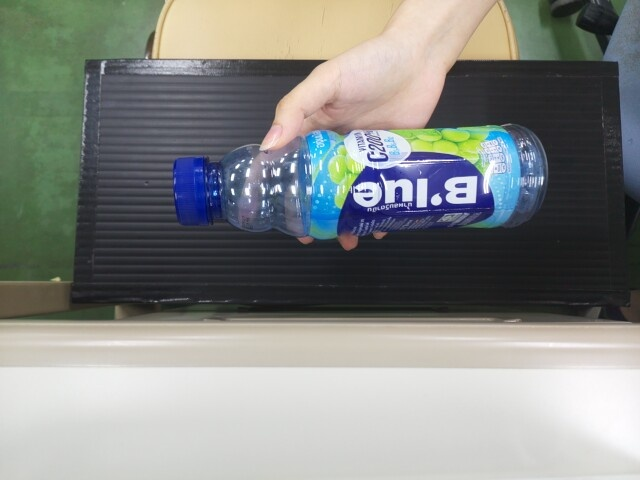plastic_bottle: (171, 128, 550, 234)
